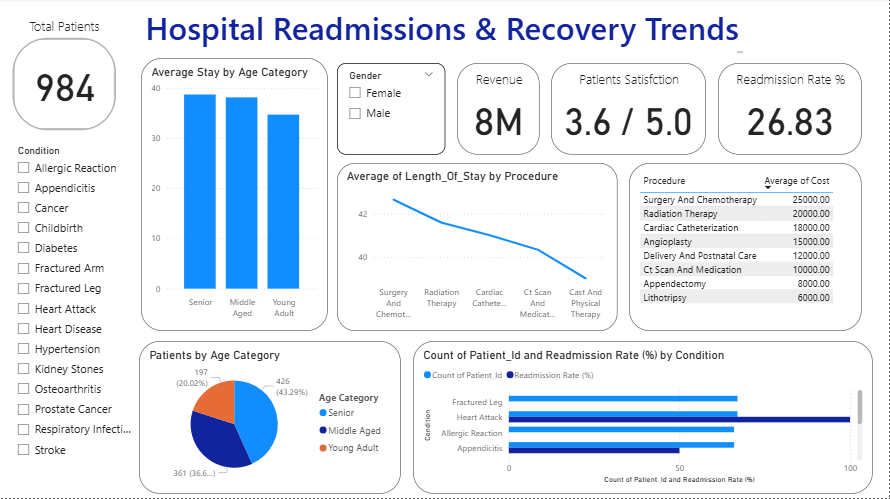

Layout of this report page (visuals, bound fields, positions):
{"tool":"powerbi","page":{"name":"Page 1","canvas":[1280,720],"ordinal":0},"visuals":[{"type":"cardVisual","title":"Total Patients","fields":{"Data":["CountNonNull(Sheet1.Patient_Id)"]},"box":[13,27.4,159.8,168.5],"z":0},{"type":"textbox","title":"Hospital Readmissions & Recovery Trends","box":[204.5,11.5,869.8,73.4],"z":1000},{"type":"card","title":"Revenue","fields":{"Values":["Sum(Sheet1.Cost)"]},"box":[658.4,93.1,119.4,131.7],"z":2000},{"type":"pieChart","title":"Patients by Age Category","fields":{"Y":["CountNonNull(Sheet1.Procedure)"],"Category":["Sheet1.Age Category"]},"box":[200.2,493.9,377.3,220.3],"z":3000},{"type":"card","title":"Readmission Rate %","fields":{"Values":["Patient Data.Readmission Rate (%)"]},"box":[1034.2,93.1,207.2,131.7],"z":4000},{"type":"slicer","fields":{"Values":["Patient Data.Condition"]},"box":[13,205.9,184.3,470.9],"z":5000},{"type":"slicer","fields":{"Values":["Patient Data.Gender"]},"box":[484.6,93.1,156.3,131.7],"z":6000},{"type":"card","title":"Patients Satisfction","fields":{"Values":["Patient Data.Patients Satisfaction"]},"box":[793.6,93.1,223,131.7],"z":7000},{"type":"clusteredColumnChart","title":"Average Stay by Age Category","fields":{"Category":["Patient Data.Age Category"],"Y":["Avg(Patient Data.Length_Of_Stay)"]},"box":[203,86.4,269.3,393.1],"z":8000},{"type":"tableEx","fields":{"Values":["Patient Data.Procedure","Avg(Patient Data.Cost)"]},"box":[906,237,335.4,242.3],"z":9000},{"type":"lineChart","fields":{"Category":["Patient Data.Procedure"],"Y":["Avg(Patient Data.Length_Of_Stay)"]},"box":[484.6,237,403.8,242.3],"z":10000},{"type":"clusteredBarChart","fields":{"Category":["Patient Data.Condition"],"Y":["Count(Patient Data.Patient_Id)","Patient Data.Readmission Rate (%)"]},"box":[594.7,493.9,662.4,220.3],"z":11000}]}

Visuals, with their boxes in screenshot pixels (x1, y1, x2, y2), scaled from the page's 1280x720 canvas onto the 890x499 screenshot:
"Total Patients" cardVisual: (left=9, top=19, right=120, bottom=136)
"Hospital Readmissions & Recovery Trends" textbox: (left=142, top=8, right=747, bottom=59)
"Revenue" card: (left=458, top=65, right=541, bottom=156)
"Patients by Age Category" pieChart: (left=139, top=342, right=402, bottom=495)
"Readmission Rate %" card: (left=719, top=65, right=863, bottom=156)
slicer - Patient Data.Condition: (left=9, top=143, right=137, bottom=469)
slicer - Patient Data.Gender: (left=337, top=65, right=446, bottom=156)
"Patients Satisfction" card: (left=552, top=65, right=707, bottom=156)
"Average Stay by Age Category" clusteredColumnChart: (left=141, top=60, right=328, bottom=332)
tableEx - Patient Data.Procedure x Avg(Patient Data.Cost): (left=630, top=164, right=863, bottom=332)
lineChart - Patient Data.Procedure x Avg(Patient Data.Length_Of_Stay): (left=337, top=164, right=618, bottom=332)
clusteredBarChart - Patient Data.Condition x Count(Patient Data.Patient_Id): (left=414, top=342, right=874, bottom=495)
